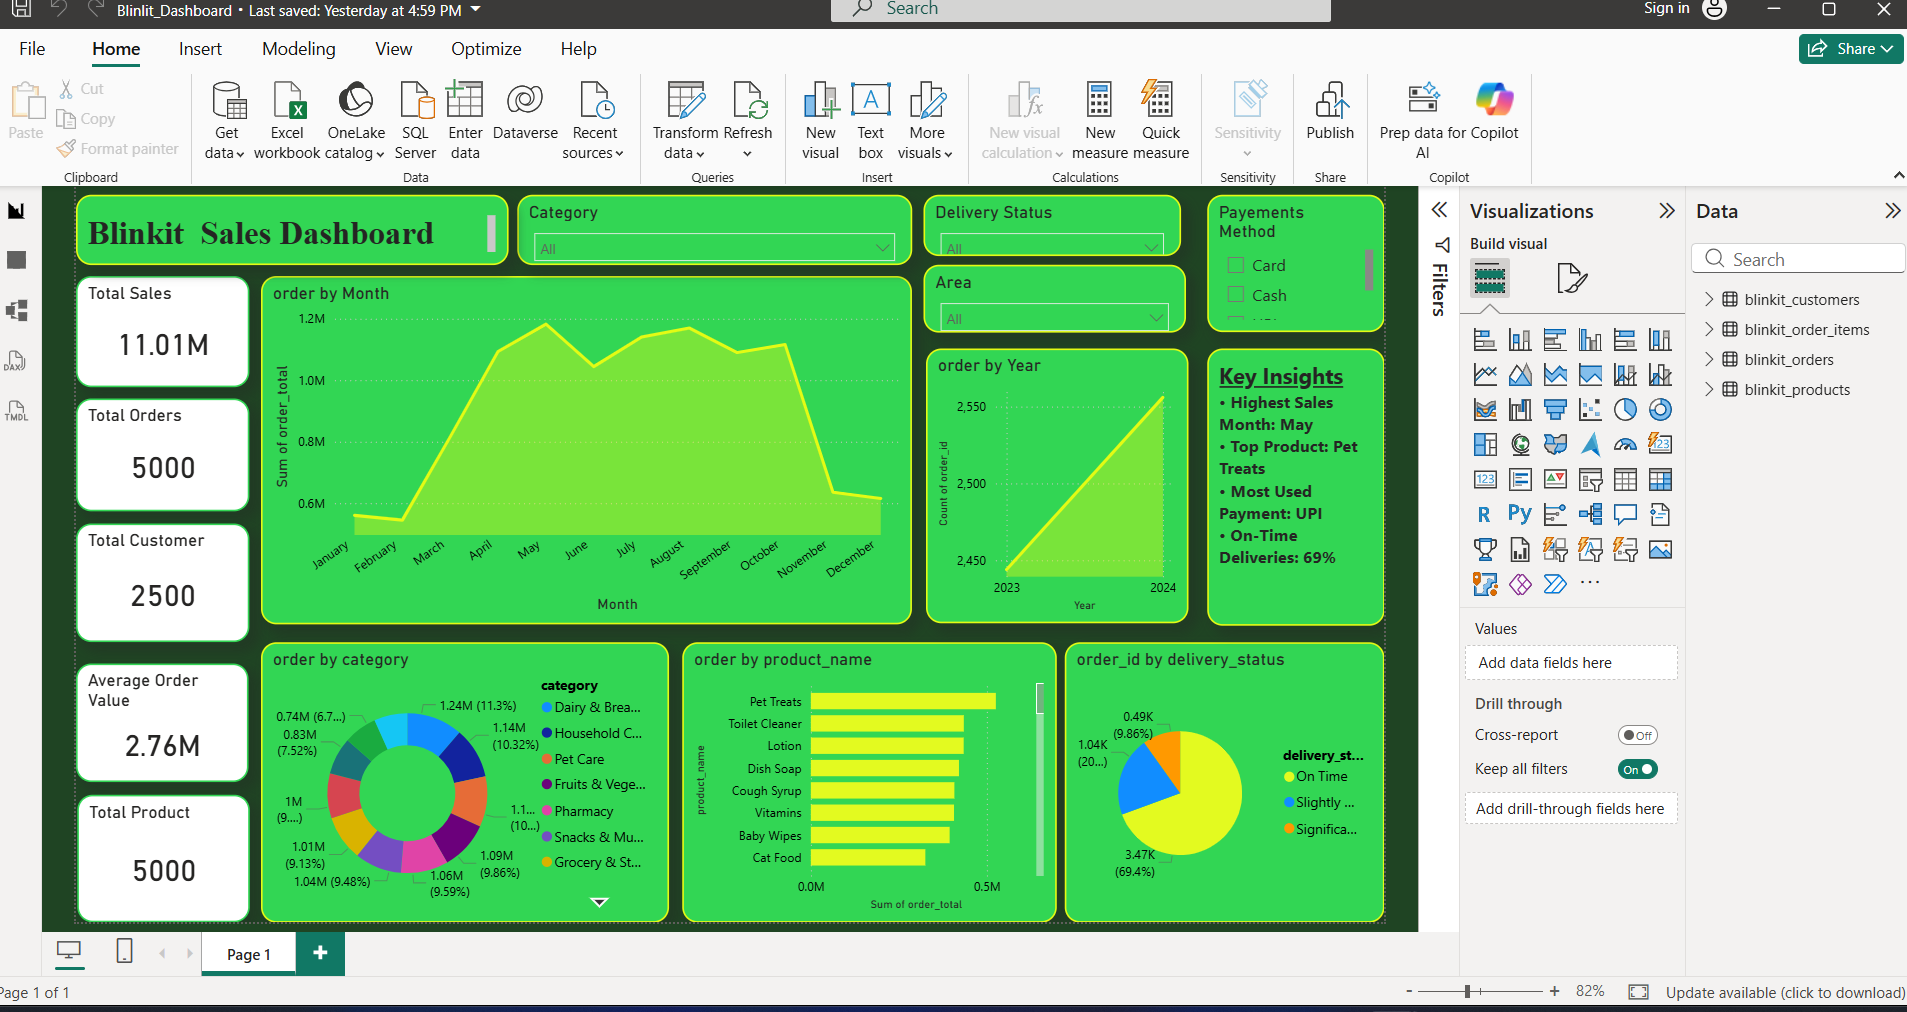

The dashboard page shown, as its layout file describes it:
{"tool":"powerbi","page":{"name":"Page 1","canvas":[1280,720],"ordinal":0},"visuals":[{"type":"card","title":"Total Sales","fields":{"Values":["Sum(blinkit_orders.order_total)"]},"box":[0,88,170,108.8],"z":0},{"type":"card","title":"Total Orders","fields":{"Values":["CountNonNull(blinkit_order_items.order_id)"]},"box":[0,207.9,170,110.1],"z":1000},{"type":"card","title":"Total Customer","fields":{"Values":["CountNonNull(blinkit_customers.customer_id)"]},"box":[0,330.2,170,116.2],"z":2000},{"type":"card","title":"Average Order Value","fields":{"Values":["Sum(blinkit_customers.avg_order_value)"]},"box":[0,467.1,168.8,116.2],"z":3000},{"type":"card","title":"Total Product","fields":{"Values":["CountNonNull(blinkit_order_items.product_id)"]},"box":[1.2,595.5,168.8,124.7],"z":4000},{"type":"lineChart","title":"order by Month","fields":{"Category":["blinkit_orders.order_date.Variation.Date Hierarchy.Month"],"Y":["Sum(blinkit_orders.order_total)"]},"box":[181,88,637.1,341.2],"z":5000},{"type":"donutChart","title":"order by category","fields":{"Category":["blinkit_products.category"],"Y":["Sum(blinkit_orders.order_total)"]},"box":[181.1,446,399.3,274.4],"z":6000},{"type":"barChart","title":"order by product_name","fields":{"Category":["blinkit_products.product_name"],"Y":["Sum(blinkit_orders.order_total)"]},"box":[592.8,446,366.4,274.4],"z":7000},{"type":"pieChart","title":"order_id by delivery_status","fields":{"Category":["blinkit_orders.delivery_status"],"Y":["CountNonNull(blinkit_orders.order_id)"]},"box":[967.4,446,312.9,274.4],"z":8000},{"type":"slicer","title":"Category","fields":{"Values":["blinkit_products.category"]},"box":[431.7,8.6,386.4,68.5],"z":9000},{"type":"slicer","title":"Payements Method ","fields":{"Values":["blinkit_orders.payment_method"]},"box":[1106.7,8.6,173.6,134.5],"z":10000},{"type":"slicer","title":"Delivery Status","fields":{"Values":["blinkit_orders.delivery_status"]},"box":[829.1,8.6,251.9,59.9],"z":11000},{"type":"slicer","title":"Area","fields":{"Values":["blinkit_customers.area"]},"box":[829.1,77,256.8,66],"z":12000},{"type":"areaChart","title":"order by Year","fields":{"Category":["blinkit_orders.order_date.Variation.Date Hierarchy.Year","blinkit_orders.order_date.Variation.Date Hierarchy.Quarter","blinkit_orders.order_date.Variation.Date Hierarchy.Month","blinkit_orders.order_date.Variation.Date Hierarchy.Day"],"Y":["CountNonNull(blinkit_order_items.order_id)"]},"box":[831.5,159,256.8,269],"z":13000},{"type":"textbox","box":[0,8.6,423.1,68.5],"z":14000},{"type":"textbox","box":[1106.7,159,173.6,271.5],"z":15000}]}

Visuals, with their boxes on the page's 1280x720 design canvas (x1, y1, x2, y2). These are canvas units, not pixel positions in the 1907x1012 screenshot, which may show the page scaled, cropped or inside an application window:
"Total Sales" card: box=[0, 88, 170, 197]
"Total Orders" card: box=[0, 208, 170, 318]
"Total Customer" card: box=[0, 330, 170, 446]
"Average Order Value" card: box=[0, 467, 169, 583]
"Total Product" card: box=[1, 596, 170, 720]
"order by Month" lineChart: box=[181, 88, 818, 429]
"order by category" donutChart: box=[181, 446, 580, 720]
"order by product_name" barChart: box=[593, 446, 959, 720]
"order_id by delivery_status" pieChart: box=[967, 446, 1280, 720]
"Category" slicer: box=[432, 9, 818, 77]
"Payements Method " slicer: box=[1107, 9, 1280, 143]
"Delivery Status" slicer: box=[829, 9, 1081, 68]
"Area" slicer: box=[829, 77, 1086, 143]
"order by Year" areaChart: box=[832, 159, 1088, 428]
textbox: box=[0, 9, 423, 77]
textbox: box=[1107, 159, 1280, 430]
